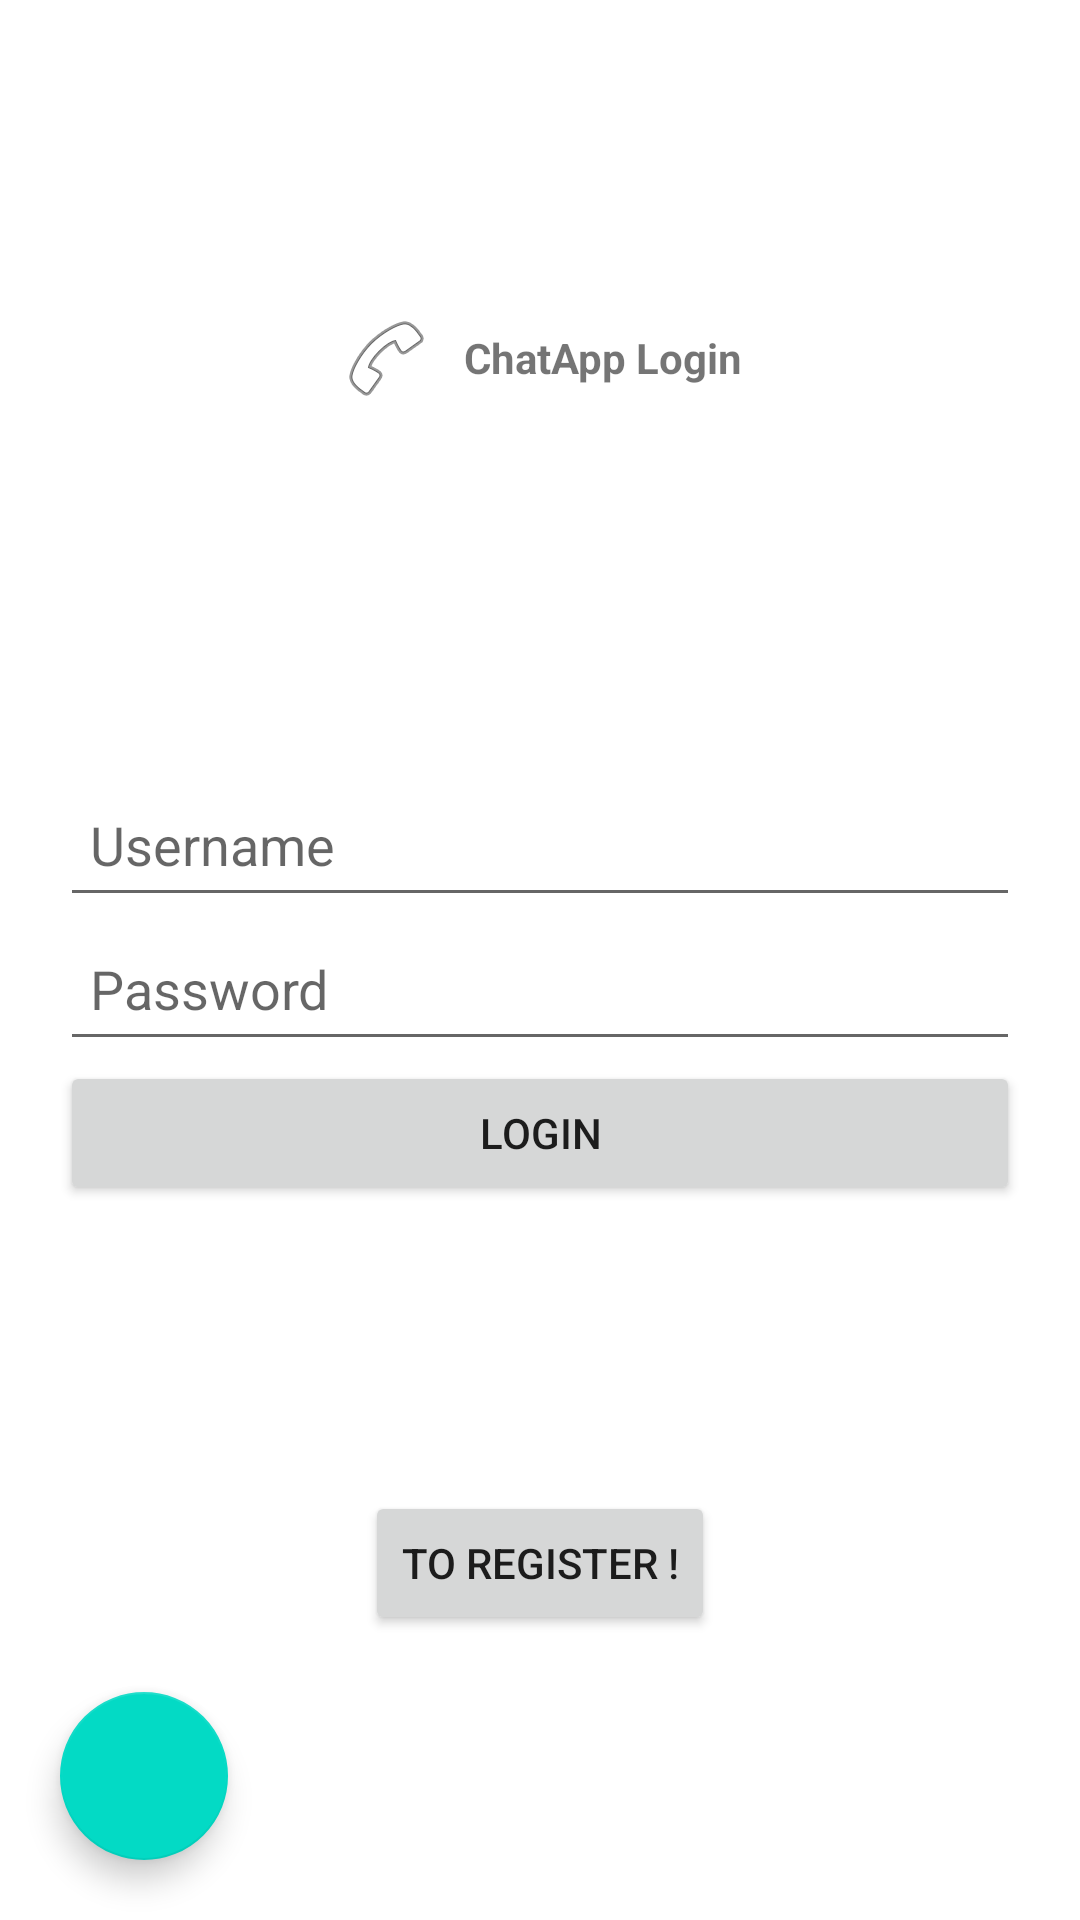

Screen size 1080 x 1920. Icon name, then its box in pixels as (left=x1, top=y1, right=x2, bottom=y2):
call: (left=349, top=321, right=424, bottom=396)
